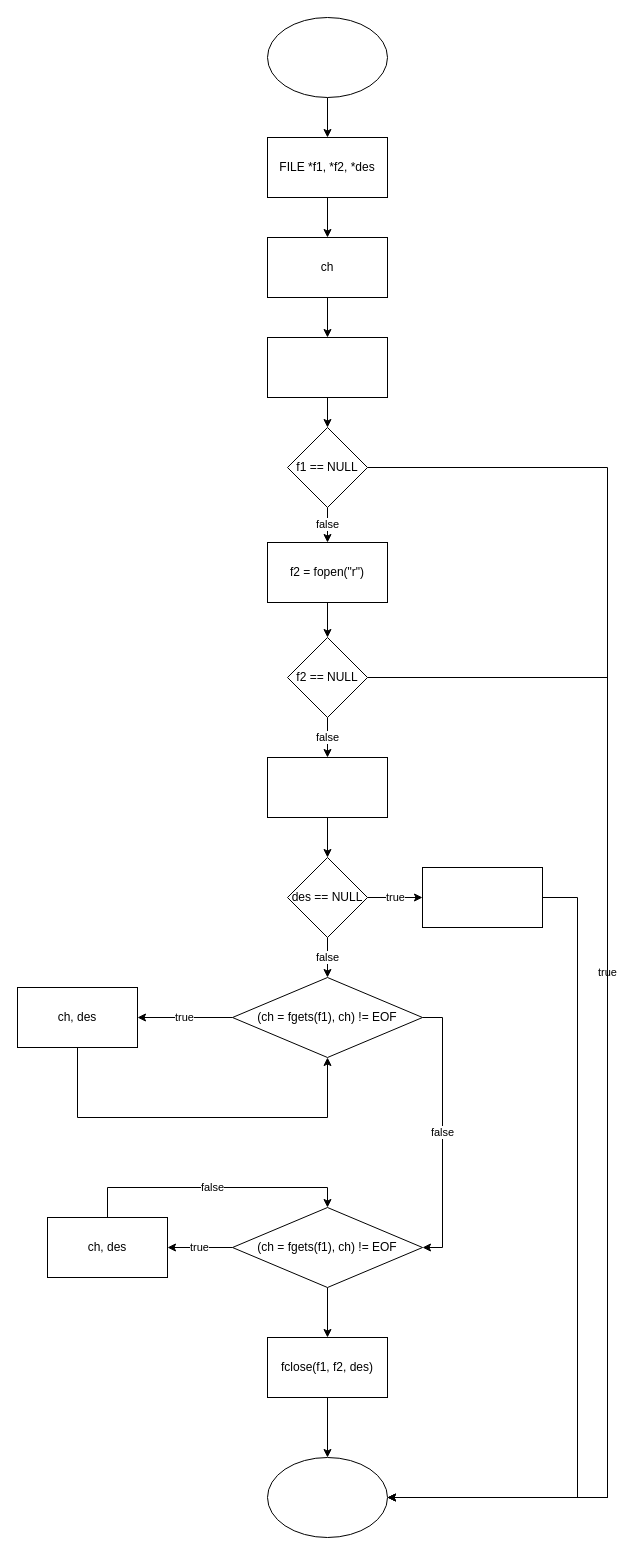
The diagram is 634 pixels wide and 1555 high, and some of its shapes have lost their labels. The shapes that lost their labels are listed below. From the top down, each one's centre as x and y in pixels, then its label:
(327,57): Start
(327,367): f1 = fopen("r")
(327,787): des = fopen("w")
(482,897): fclose(f1, f2)
(327,1497): End
